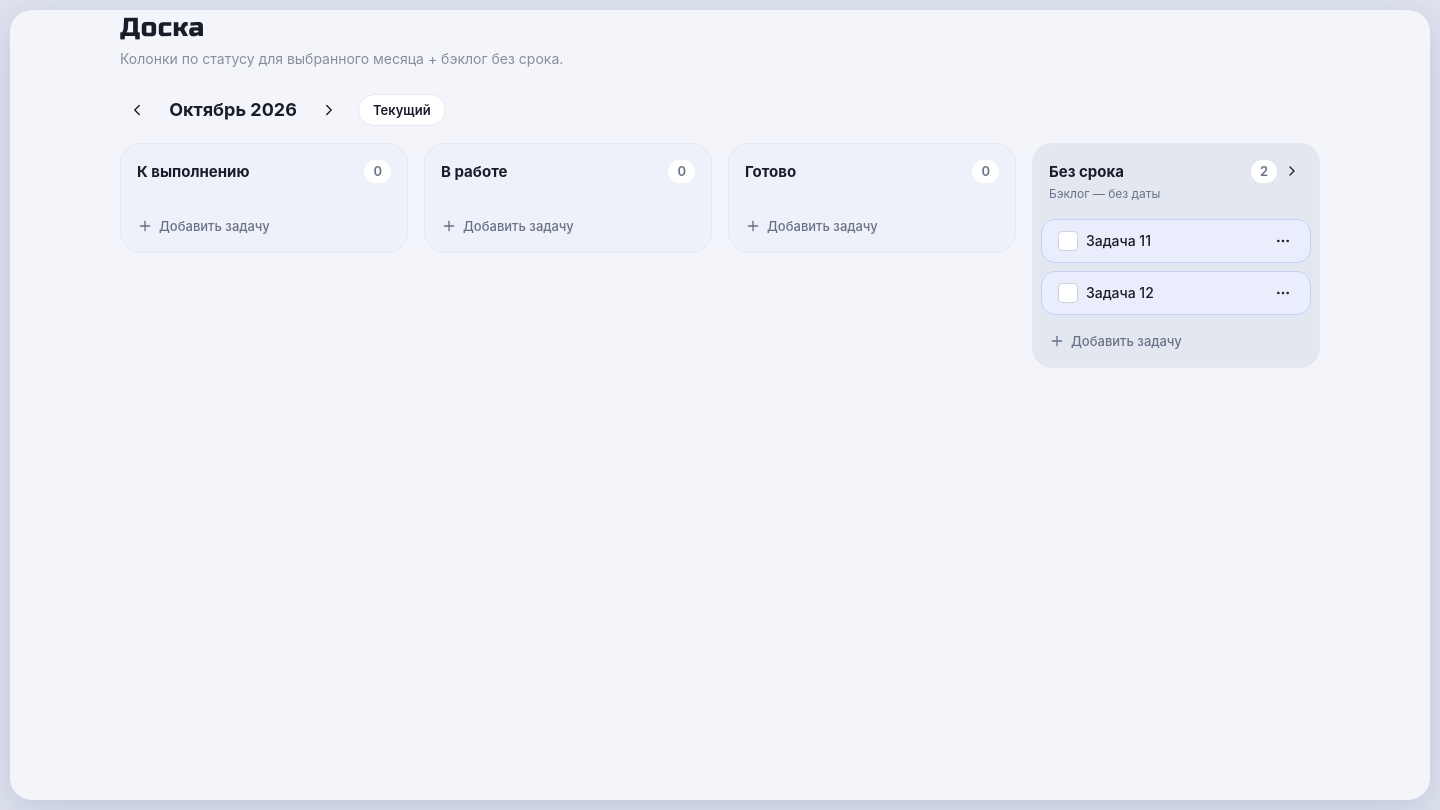
Test: BoardPage › бэклог сворачивается и показывает счётчик
Click the button named "Свернуть колонку".
click(1292, 172)  # box [1281,160,1303,182]
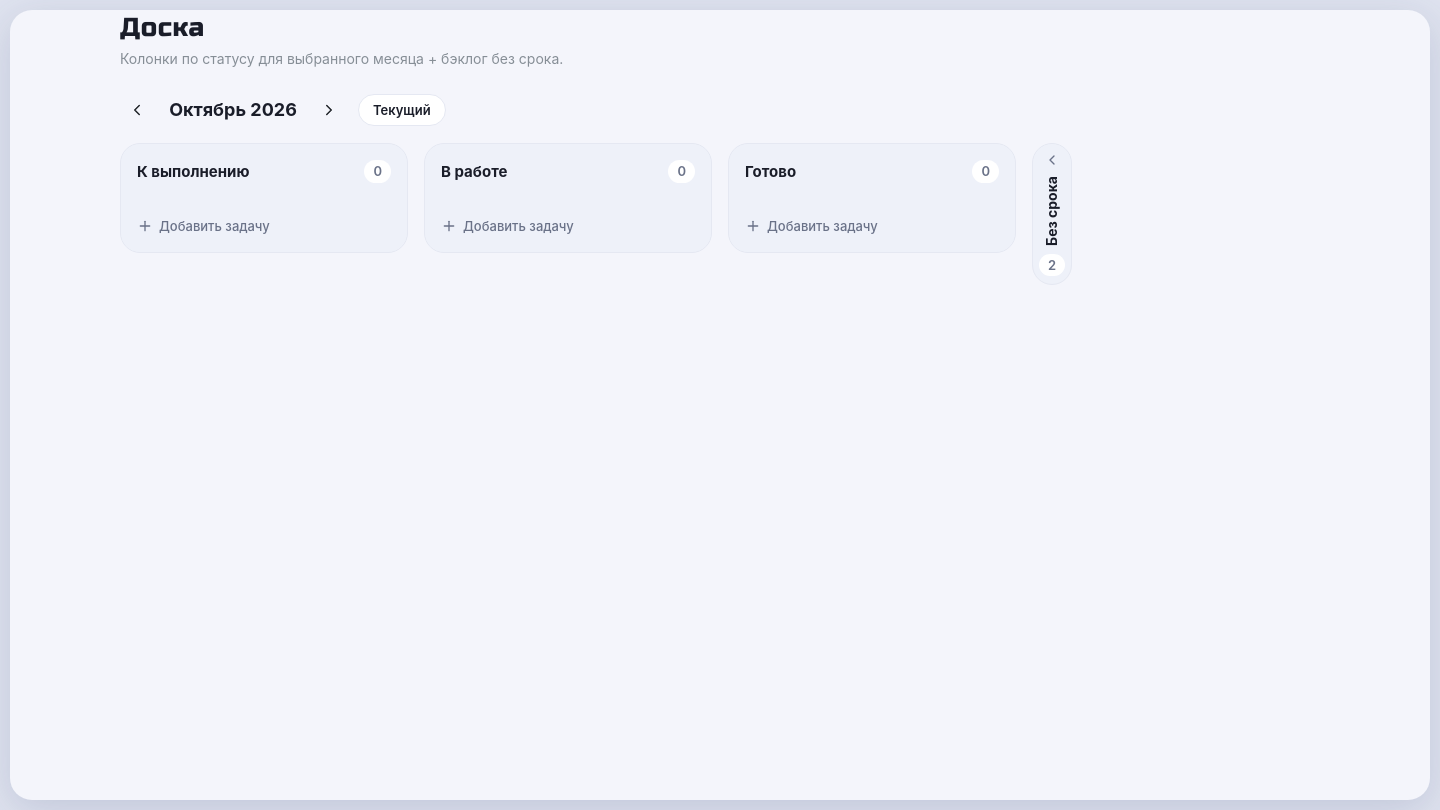
Result: the button with aria-label "Развернуть «Без срока»" shows "2" at [1032,143,1072,286]
